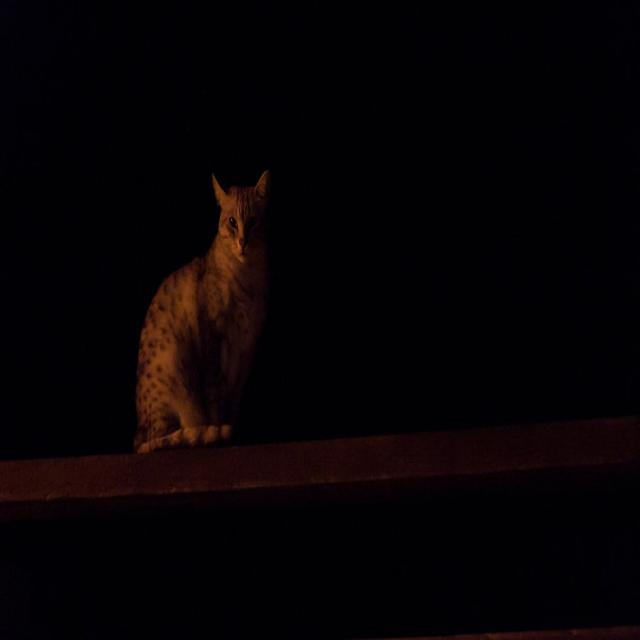Cat: (101, 156, 280, 463)
